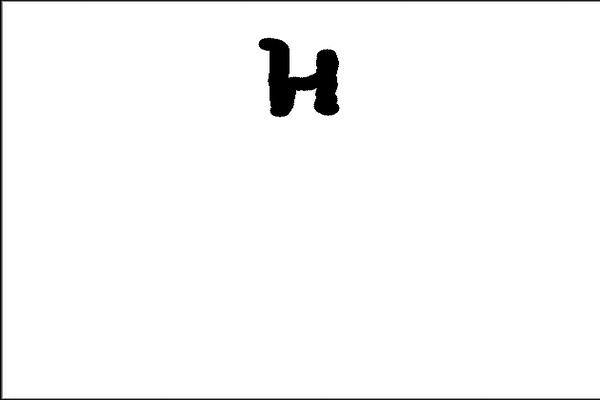H: (255, 29, 349, 119)
